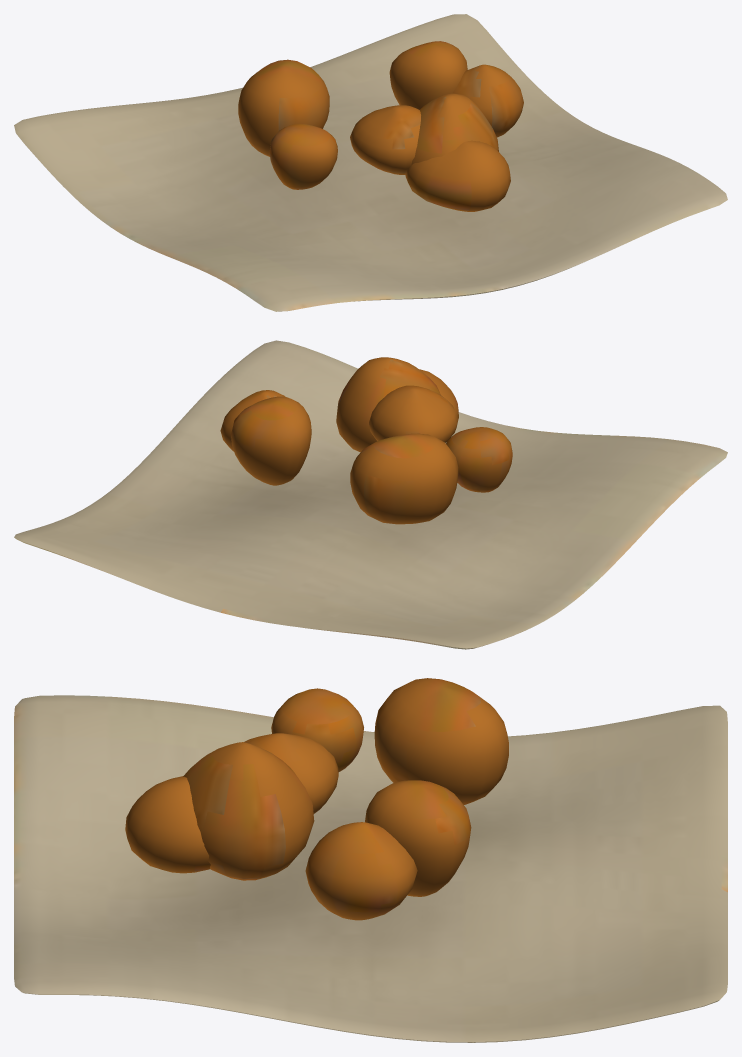
Rendered from pine_resin.glb.
The picture shows the model from 3 angles, top to bottom: view 1: azimuth 30°, elevation 25°; view 2: azimuth 150°, elevation 25°; view 3: azimuth 270°, elevation 25°; orthographic projection. The views are drawn at different scales.
Parts seen in each view (by area): view 1: pine_resin; view 2: pine_resin; view 3: pine_resin.
Boxes of the visible parts, x1,y1,x2,y2 form: pine_resin: (14, 14, 727, 311); pine_resin: (14, 340, 727, 649); pine_resin: (14, 678, 727, 1042).
Size of the model in its own units: 0.1193 by 0.0334 by 0.1193.
Materials: 1 (1 with a texture image).
